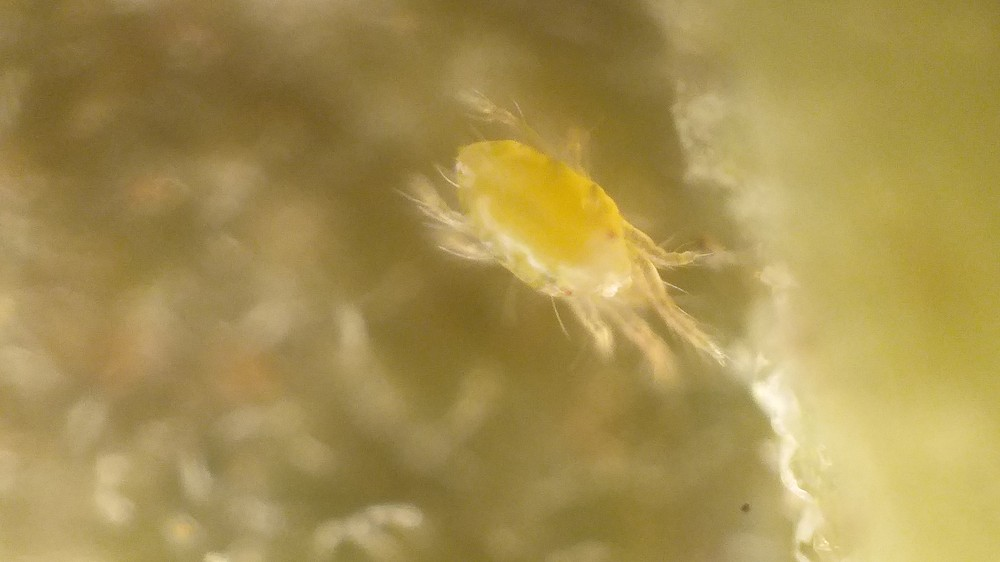Aracnido Rojo: (398, 82, 791, 433)
